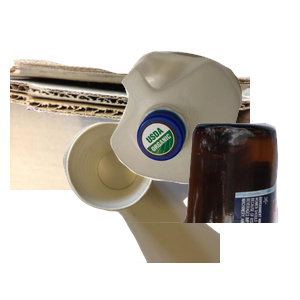cardboard: (10, 57, 250, 237)
glass: (87, 120, 300, 300)
plastic: (108, 49, 300, 226)
trash: (60, 120, 300, 300)
